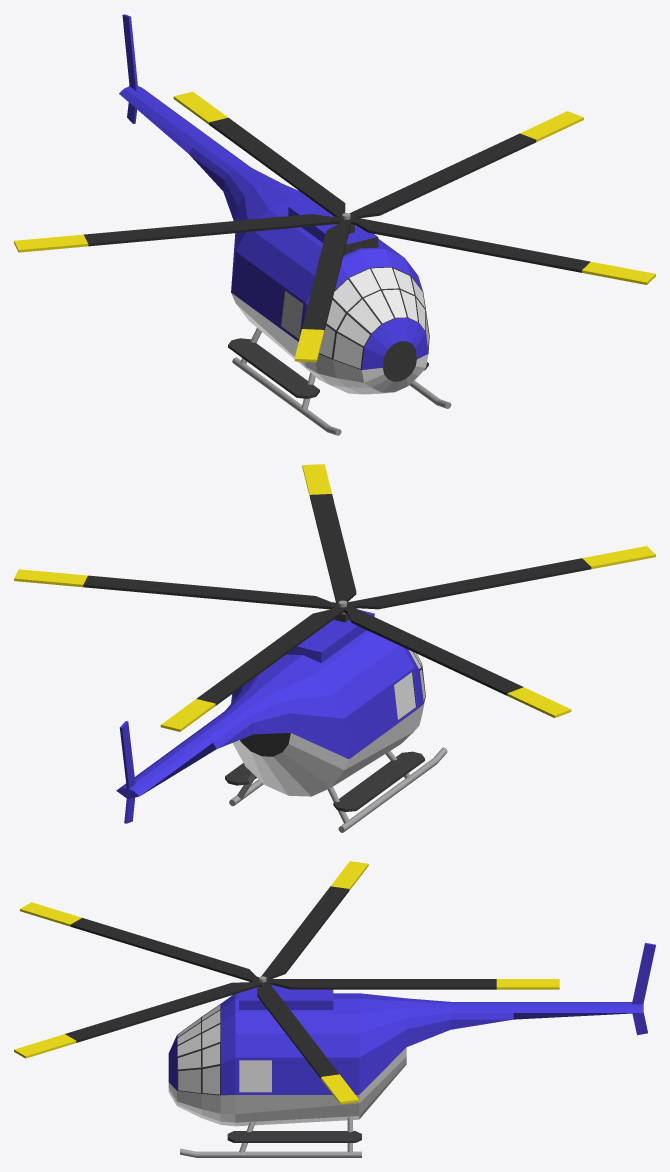
The model's file is Helicopter.fbx.
3 renders of one model, top to bottom at view 1: azimuth 30°, elevation 25°; view 2: azimuth 150°, elevation 25°; view 3: azimuth 270°, elevation 25°, orthographic. The views are drawn at different scales.
Parts seen in each view (by area): view 1: Helicopter, Rotor blades; view 2: Helicopter, Rotor blades; view 3: Helicopter, Rotor blades.
Boxes of the visible parts, left/top/right/bottom form: Helicopter: left=119, top=14, right=451, bottom=435; Rotor blades: left=14, top=91, right=655, bottom=362; Helicopter: left=116, top=600, right=447, bottom=832; Rotor blades: left=14, top=464, right=655, bottom=731; Helicopter: left=168, top=942, right=655, bottom=1157; Rotor blades: left=14, top=861, right=559, bottom=1104.
Size of the model in its own units: 921 by 340 by 1037.
